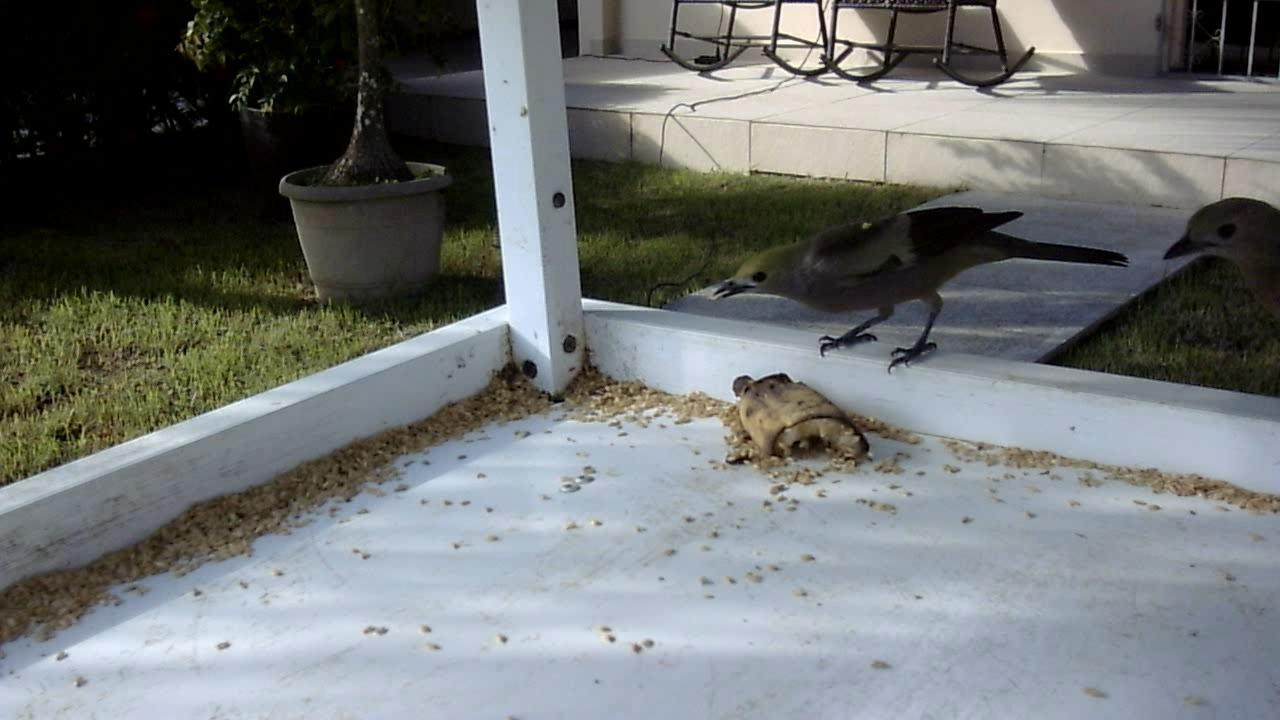sanhaco_do_coqueiro: (701, 192, 1128, 384), (1161, 193, 1276, 363)
